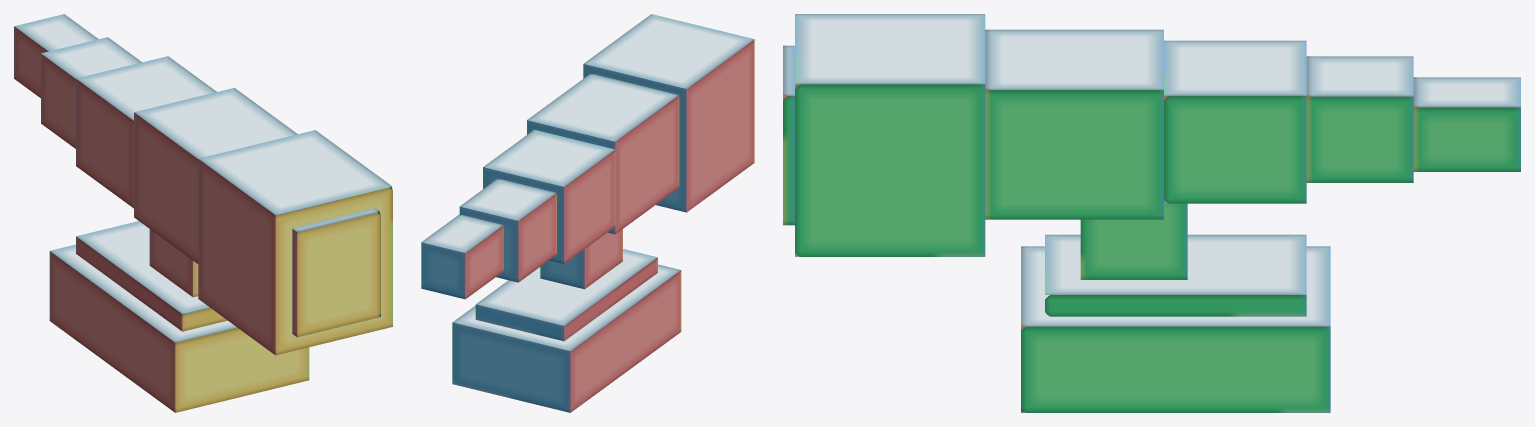
Rendered from bore.obj.
The picture shows the model from 3 angles, left to right: view 1: azimuth 30°, elevation 25°; view 2: azimuth 150°, elevation 25°; view 3: azimuth 270°, elevation 25°; orthographic projection. The views are drawn at different scales.
Parts seen in each view (by area): view 1: cube, base, handle; view 2: cube, base, handle; view 3: cube, base, handle.
Part boxes in pixels (x1,y1,x2,y2): cube: (14, 14, 392, 355); base: (49, 221, 309, 412); handle: (149, 229, 198, 297); cube: (421, 14, 754, 299); base: (452, 249, 681, 412); handle: (540, 229, 622, 289); cube: (783, 14, 1520, 256); base: (1021, 234, 1330, 412); handle: (1080, 203, 1187, 279).
Size of the model in its own units: 1 by 1.88 by 3.88.
